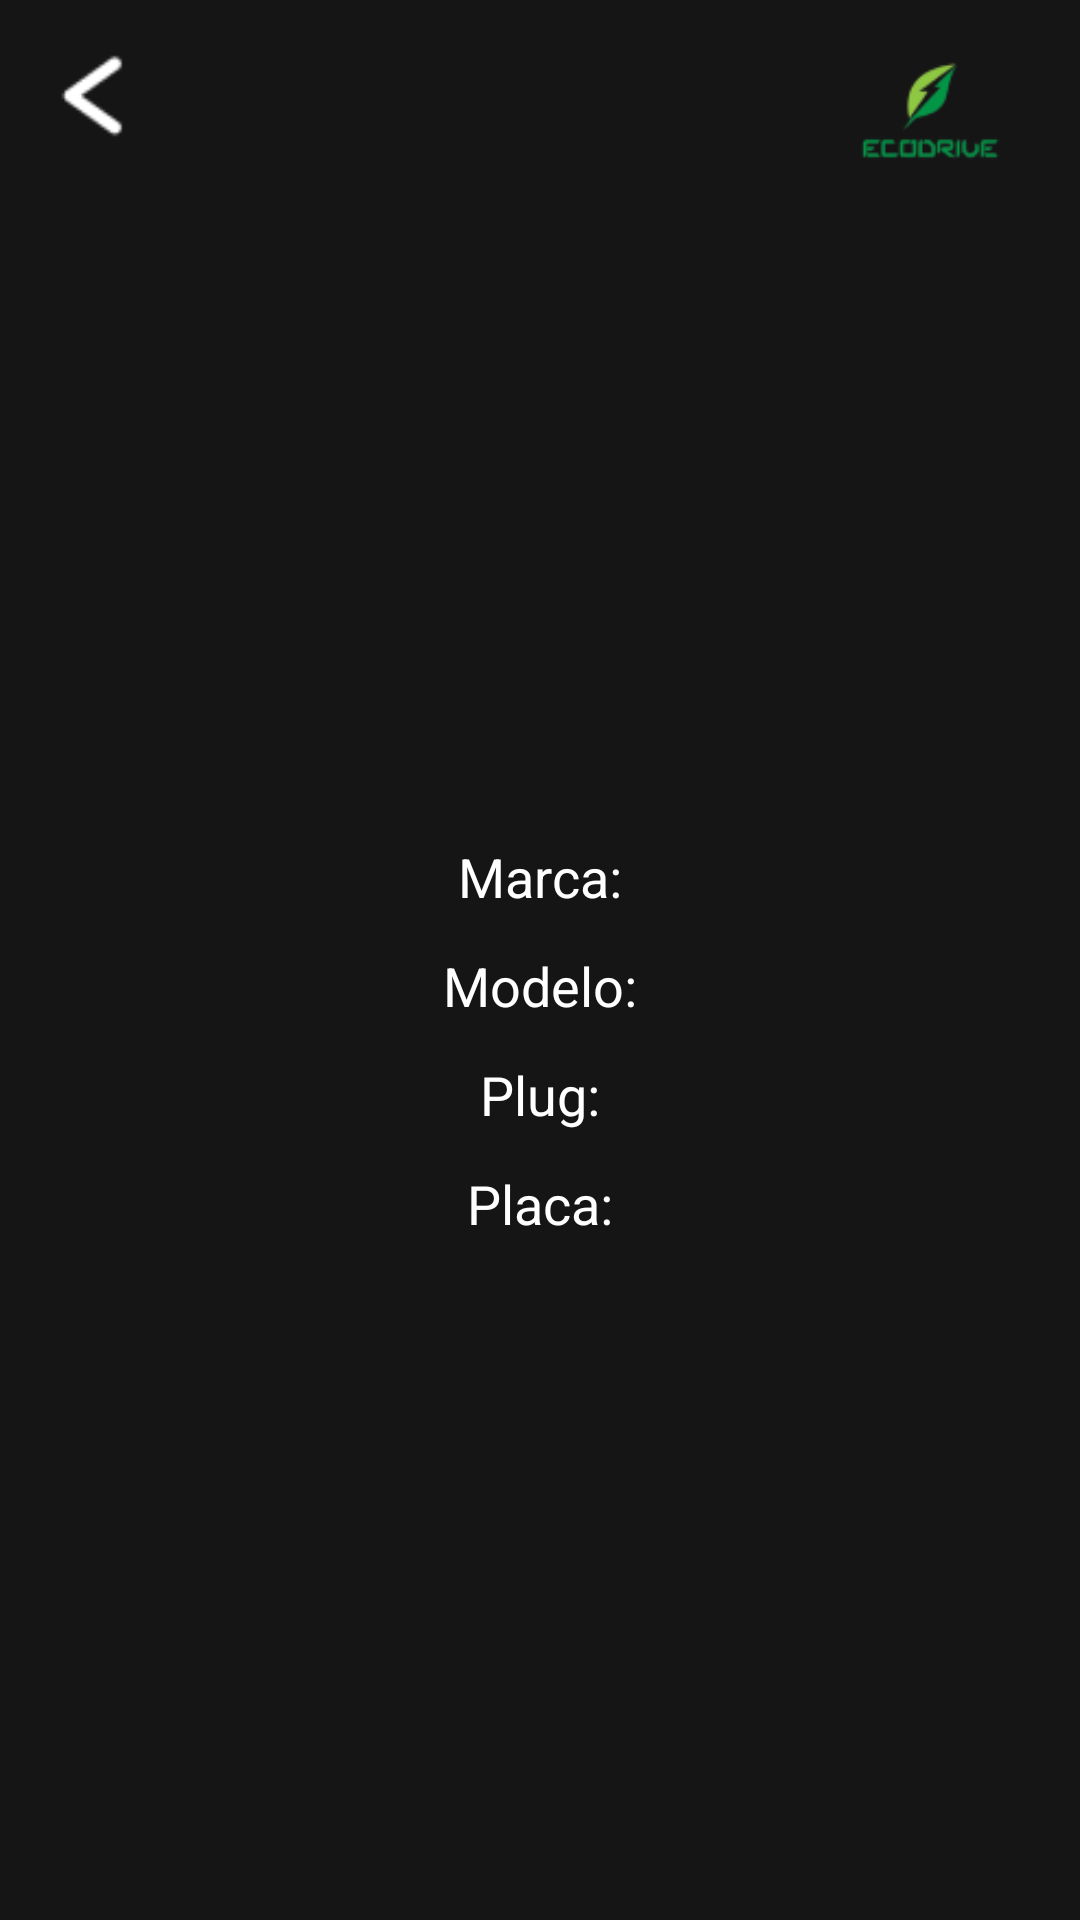

Where to tap for icons on this 1080w x 1920h app screen, as (x,y):
Voltar: (92,96)
